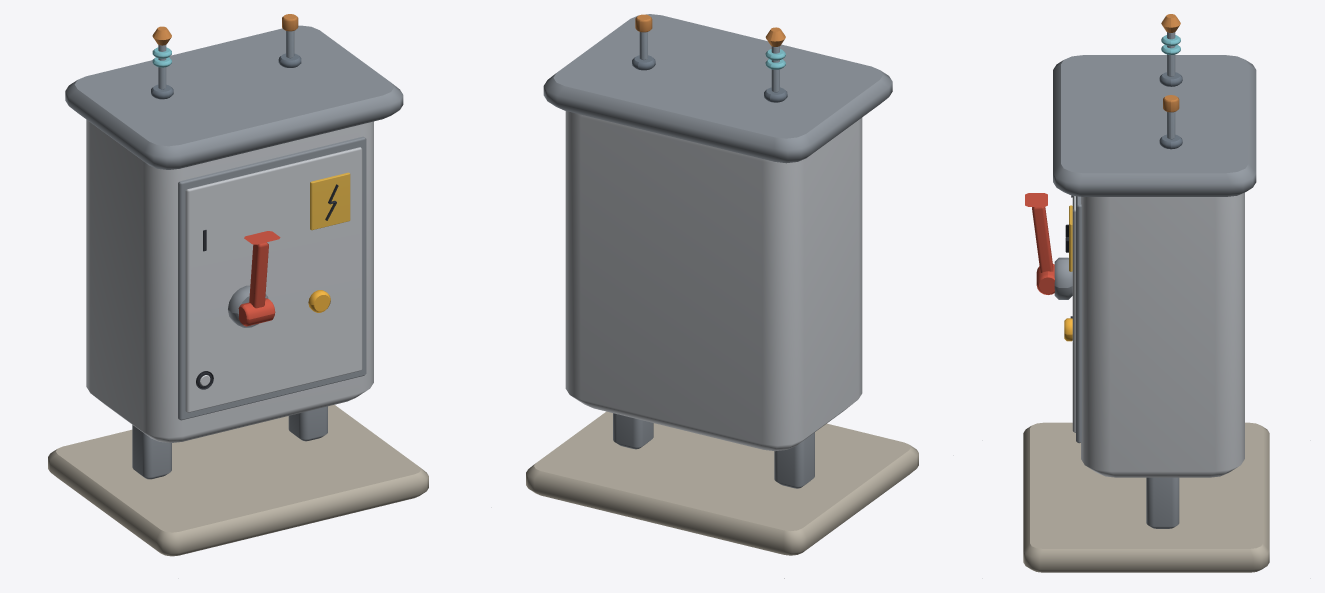
Rendered from disjoncteur.glb.
3 renders of one model, left to right at view 1: azimuth 30°, elevation 25°; view 2: azimuth 150°, elevation 25°; view 3: azimuth 270°, elevation 25°, orthographic. The views are drawn at different scales.
Parts seen in each view (by area): view 1: pieces_coffret.006, pieces_coffret_sombre.004, pieces_socle_beton.006, levier_levier_rouge.002, pieces_panneau_jaune.004; view 2: pieces_coffret.006, pieces_coffret_sombre.004, pieces_socle_beton.006; view 3: pieces_coffret.006, pieces_coffret_sombre.004, pieces_socle_beton.006, levier_levier_rouge.002, pieces_isolateur_cuivre.008, pieces_pylone.006, pieces_pylone_sombre.006.
Part boxes in pixels (<box>): pieces_coffret.006: <box>86,119,373,442</box>; pieces_coffret_sombre.004: <box>65,25,403,479</box>; pieces_socle_beton.006: <box>48,404,428,556</box>; levier_levier_rouge.002: <box>238,231,280,326</box>; pieces_panneau_jaune.004: <box>310,172,350,230</box>; pieces_coffret.006: <box>565,111,862,451</box>; pieces_coffret_sombre.004: <box>543,14,892,488</box>; pieces_socle_beton.006: <box>526,411,918,555</box>; pieces_coffret.006: <box>1072,192,1244,477</box>; pieces_coffret_sombre.004: <box>1053,55,1256,528</box>; pieces_socle_beton.006: <box>1023,422,1269,572</box>; levier_levier_rouge.002: <box>1025,193,1054,294</box>; pieces_isolateur_cuivre.008: <box>1161,14,1180,112</box>; pieces_pylone.006: <box>1167,32,1175,139</box>; pieces_pylone_sombre.006: <box>1159,72,1182,149</box>.
Size of the model in its own units: 1 by 1.55 by 1.
